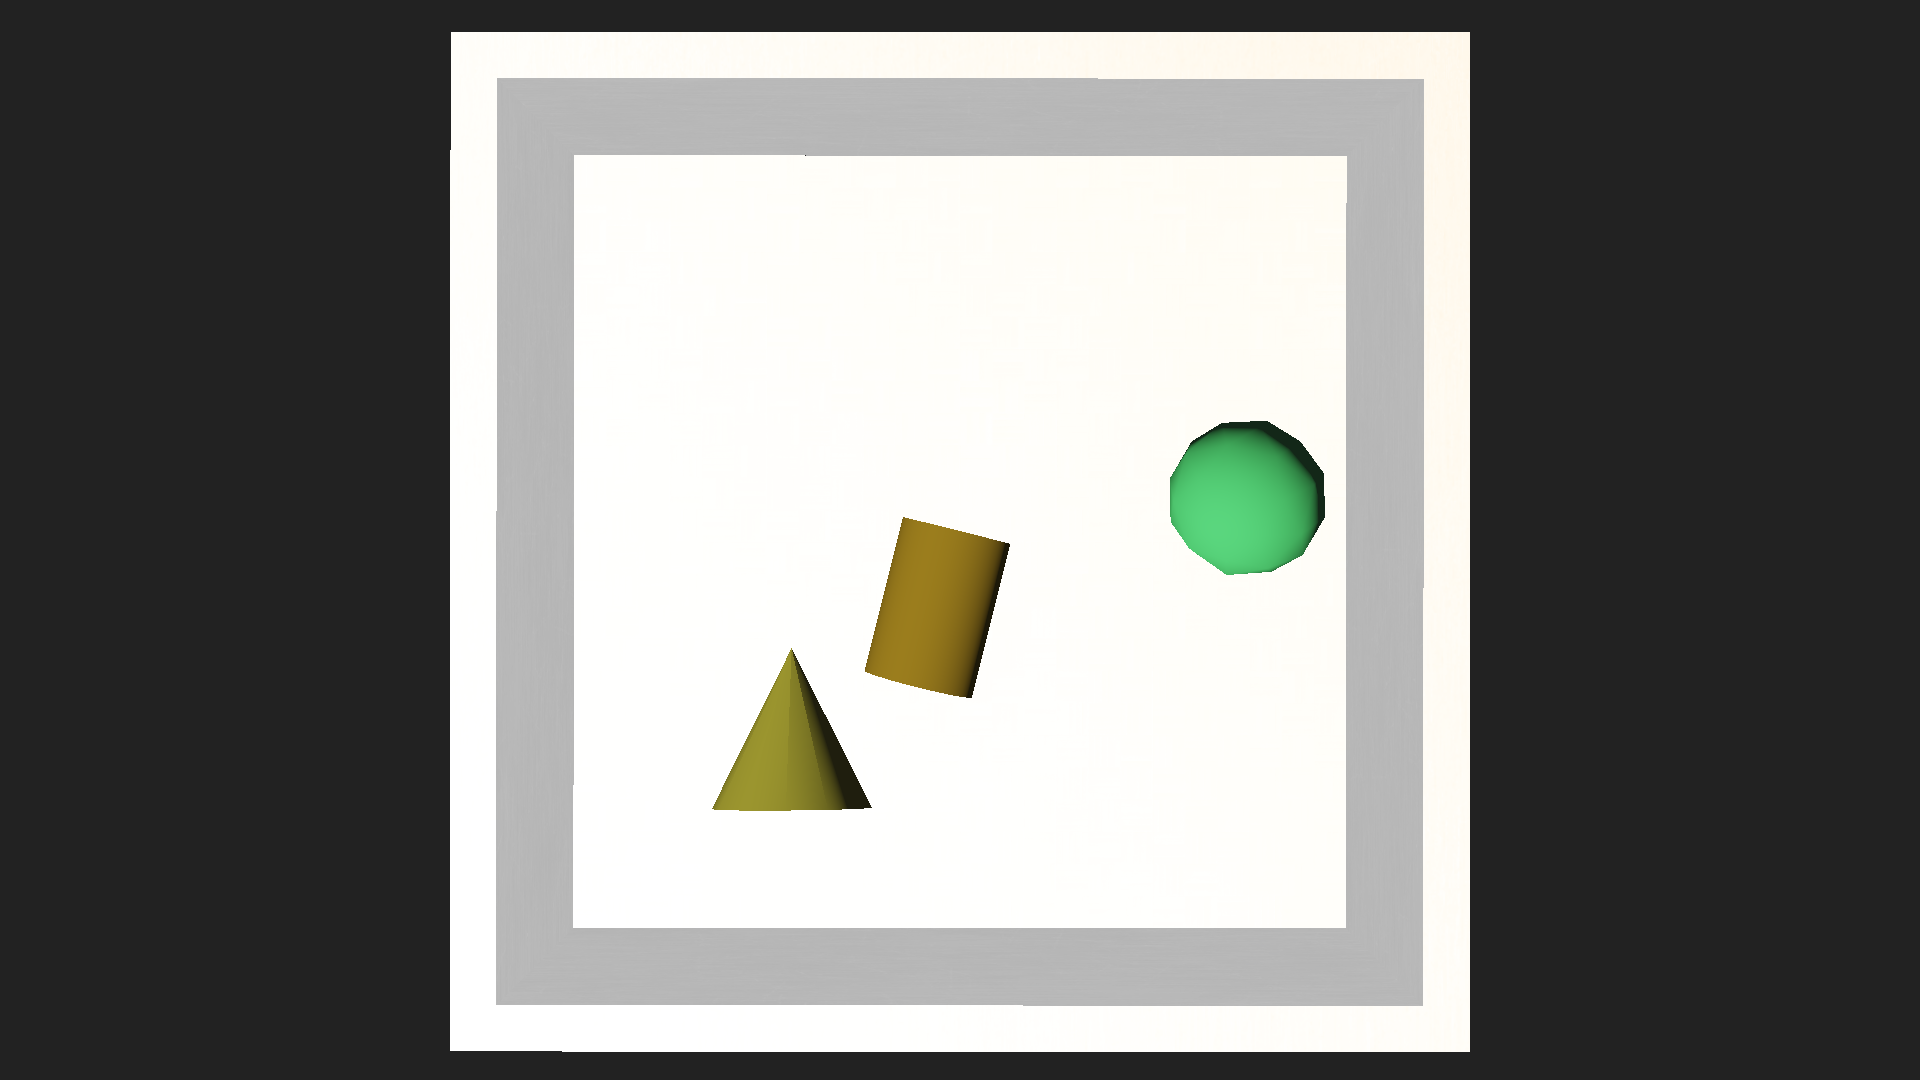cone: (861, 516, 1010, 700)
cylinder: (711, 637, 868, 823)
sphere: (1166, 417, 1327, 578)
